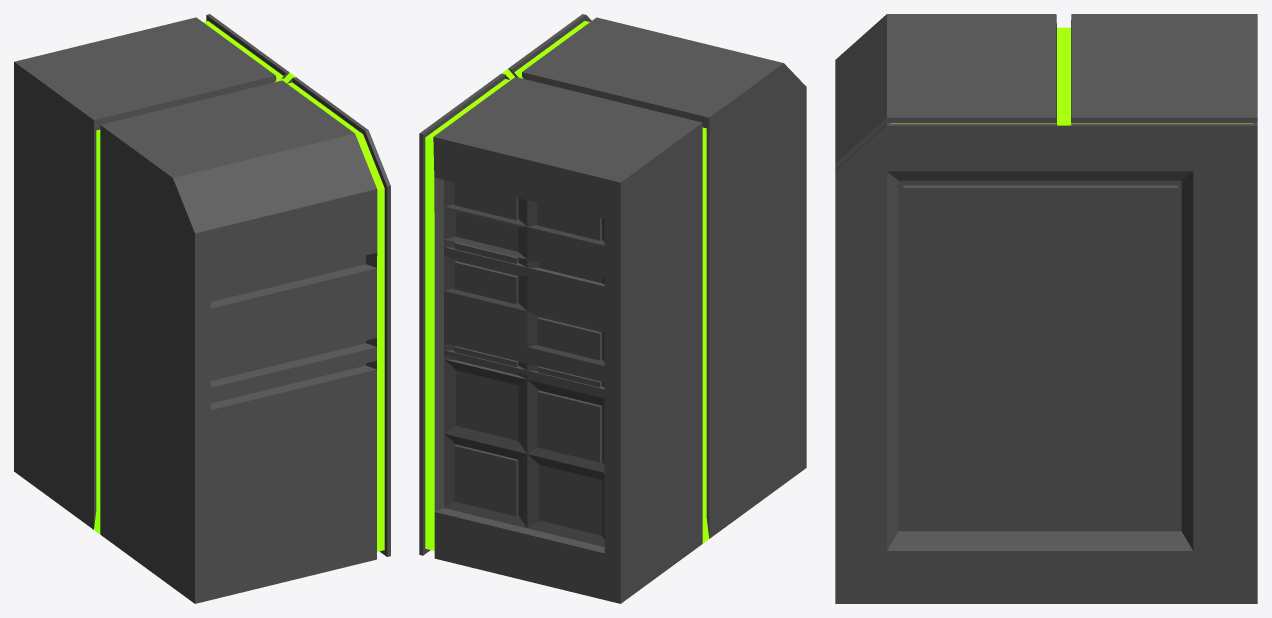
The model's file is server.gltf.
The picture shows the model from 3 angles, left to right: view 1: azimuth 30°, elevation 25°; view 2: azimuth 150°, elevation 25°; view 3: azimuth 270°, elevation 25°; orthographic projection. The views are drawn at different scales.
Visible parts, largest first — view 1: Server; view 2: Server; view 3: Server.
Boxes of the visible parts, x1,y1,x2,y2 form: Server: [14, 14, 390, 603]; Server: [419, 14, 806, 603]; Server: [835, 14, 1257, 603].
Bounding box in the file's own units: 1 × 2 × 1.6.
